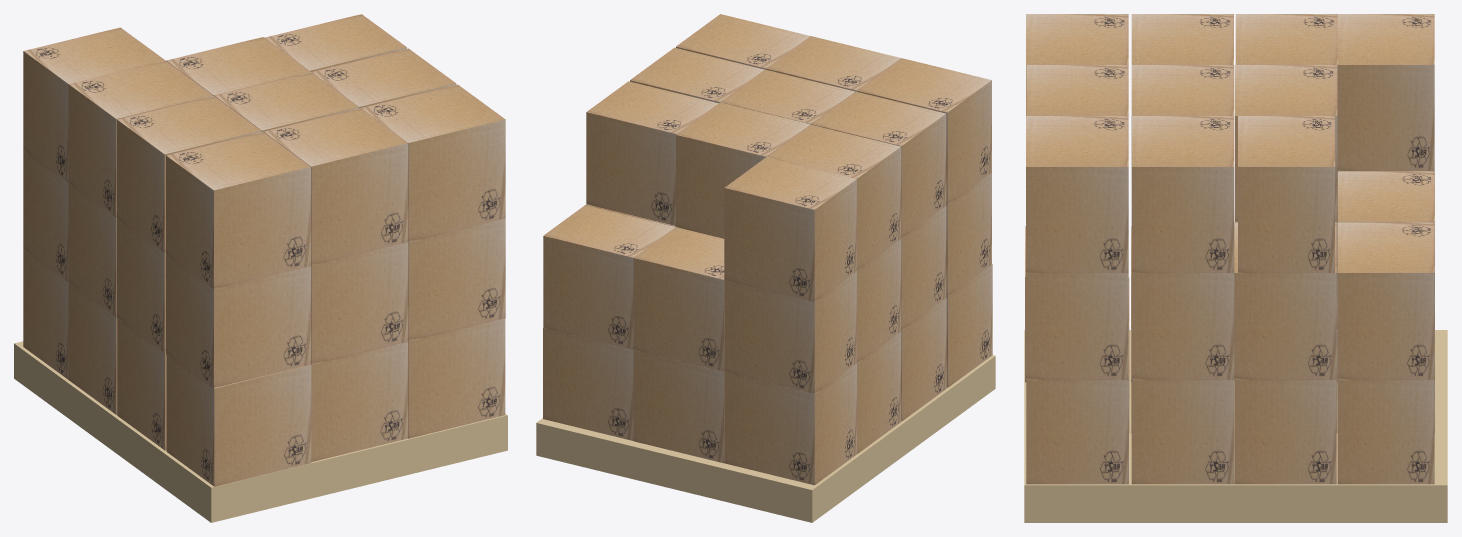
The picture shows the model from 3 angles, left to right: view 1: azimuth 30°, elevation 25°; view 2: azimuth 150°, elevation 25°; view 3: azimuth 270°, elevation 25°; orthographic projection. The views are drawn at different scales.
Parts seen in each view (by area): view 1: Куб.7 (×9), Куб.6 (×5), Куб.8 (×4), Куб.9 (×4), Ноль; view 2: Куб.9 (×8), Куб.8 (×4), Куб.7 (×5), Куб.6 (×5), Ноль; view 3: Куб.9 (×5), Куб.6 (×5), Куб.7 (×5), Куб.8 (×4), Ноль.
Part boxes in pixels (x1,y1,x2,y2): Куб.7 (×9): [166, 84, 505, 486]; Куб.6 (×5): [117, 48, 456, 450]; Куб.8 (×4): [68, 37, 310, 414]; Куб.9 (×4): [23, 14, 406, 379]; Ноль: [14, 341, 507, 522]; Куб.9 (×8): [543, 81, 856, 485]; Куб.8 (×4): [676, 102, 901, 453]; Куб.7 (×5): [676, 14, 992, 387]; Куб.6 (×5): [630, 47, 946, 421]; Ноль: [536, 355, 995, 522]; Куб.9 (×5): [1238, 14, 1434, 484]; Куб.6 (×5): [1131, 14, 1234, 484]; Куб.7 (×5): [1026, 14, 1128, 484]; Куб.8 (×4): [1234, 14, 1337, 484]; Ноль: [1024, 330, 1447, 522].
Size of the model in its own units: 200 by 213 by 230.
2 materials, 1 textured.
